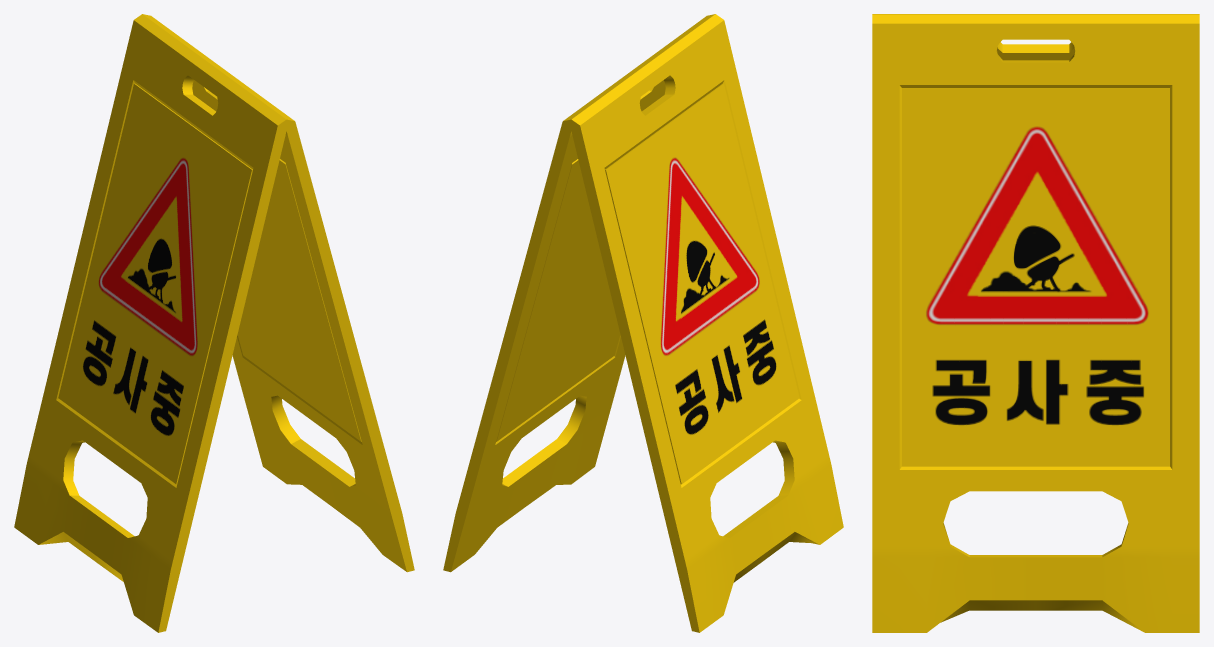
Rendered from obj_signboard_2.fbx.
The picture shows the model from 3 angles, left to right: view 1: azimuth 30°, elevation 25°; view 2: azimuth 150°, elevation 25°; view 3: azimuth 270°, elevation 25°; orthographic projection. The views are drawn at different scales.
Parts seen in each view (by area): view 1: obj_signboard_2; view 2: obj_signboard_2; view 3: obj_signboard_2.
Part boxes in pixels (x1,y1,x2,y2): obj_signboard_2: [14, 14, 414, 632]; obj_signboard_2: [443, 14, 843, 632]; obj_signboard_2: [872, 14, 1199, 632].
Bounding box in the file's own units: 0.5425 × 0.972 × 0.5266.
Materials: 1 (1 with a texture image).
